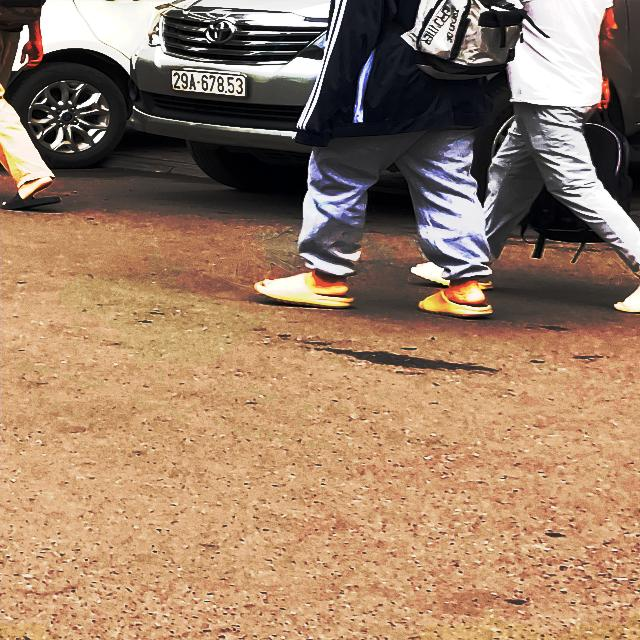license_plate: (174, 71, 248, 99)
